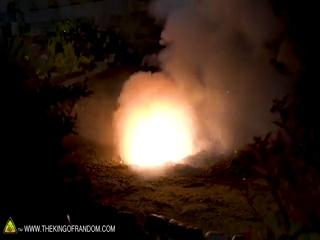Fire: (112, 82, 196, 173)
